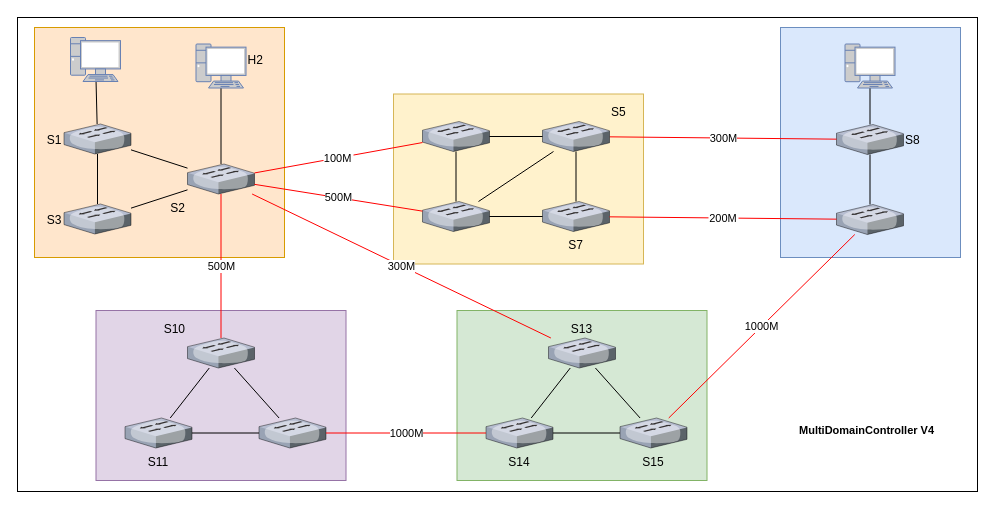
Image size: 995x509. Some labels were removed from this diagram. The shapes that lost their labels are listed below. From the top down, each one's centre as x and y in pixels, then its label:
At (x=95, y=59): "H1".
At (x=870, y=65): "H8".
At (x=455, y=136): "S4".
At (x=455, y=216): "S6".
At (x=869, y=219): "S9".
At (x=292, y=433): "S12".
